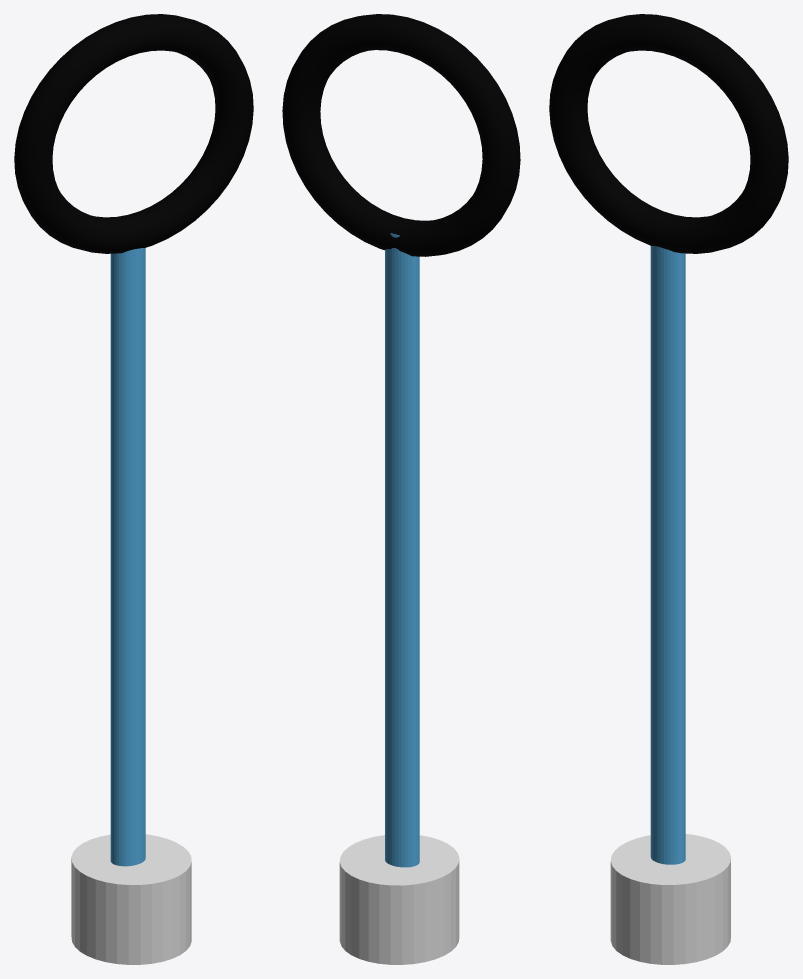
The model's file is Hoop_new.fbx.
3 views of the same model, side by side, from view 1: azimuth 30°, elevation 25°; view 2: azimuth 150°, elevation 25°; view 3: azimuth 330°, elevation 25° (orthographic).
Parts seen in each view (by area): view 1: BezierCircle, Cylinder, Cylinder.001; view 2: BezierCircle, Cylinder, Cylinder.001; view 3: BezierCircle, Cylinder, Cylinder.001.
Part boxes in pixels (x1,y1,x2,y2): BezierCircle: [14, 14, 253, 253]; Cylinder: [110, 248, 145, 866]; Cylinder.001: [71, 834, 191, 964]; BezierCircle: [282, 14, 520, 256]; Cylinder: [385, 233, 419, 867]; Cylinder.001: [339, 835, 459, 964]; BezierCircle: [549, 14, 788, 253]; Cylinder: [650, 246, 685, 864]; Cylinder.001: [610, 834, 730, 964].
Size of the model in its own units: 888 by 3337 by 407.
